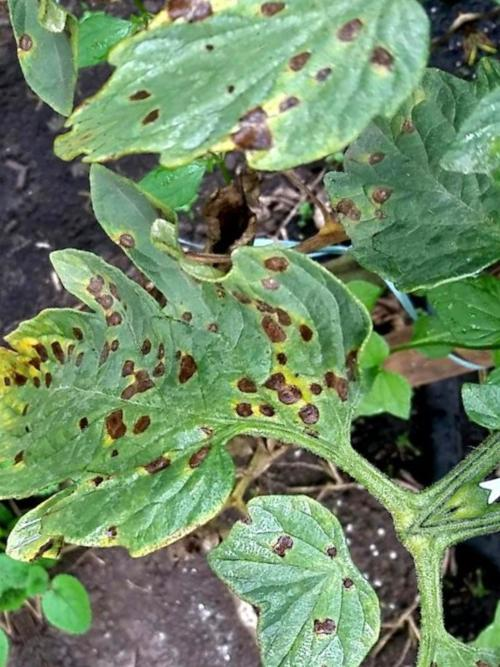Tomato Early blight leaf: (0, 95, 399, 583), (288, 46, 500, 347)
